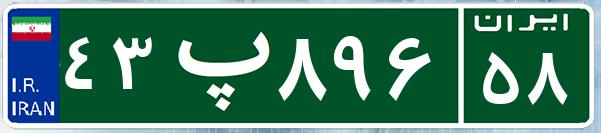3: (110, 28, 158, 105)
4: (57, 26, 110, 107)
5: (475, 38, 525, 113)
6: (385, 28, 445, 110)
8: (273, 28, 330, 110), (525, 38, 570, 115)
9: (330, 28, 385, 110)
پ: (158, 15, 273, 115)
